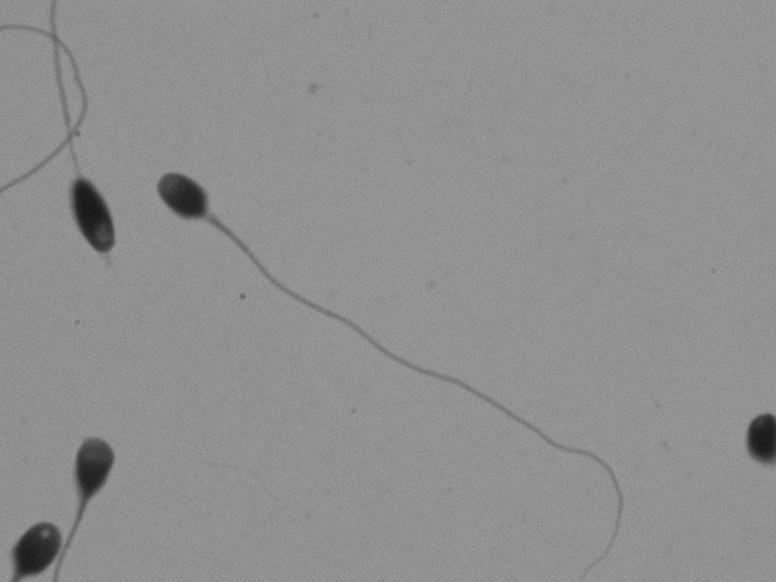Abnormal: (45, 80, 139, 318)
Normal: (132, 118, 654, 527)
